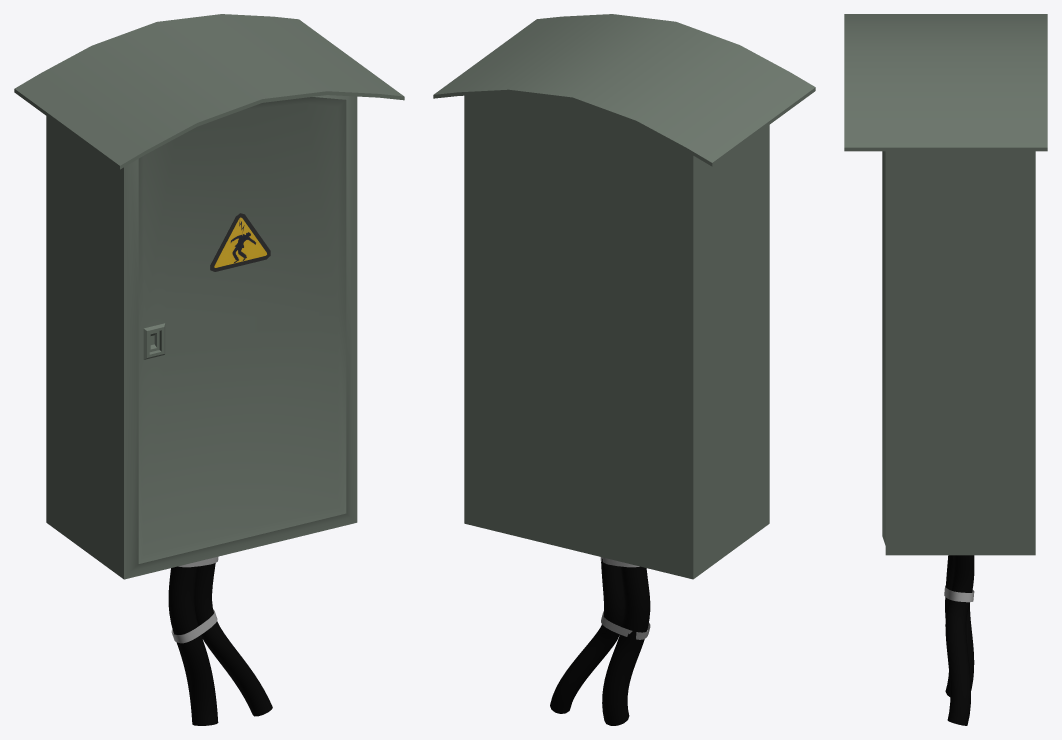
File: Electrico1.fbx
3 views of the same model, side by side, from view 1: azimuth 30°, elevation 25°; view 2: azimuth 150°, elevation 25°; view 3: azimuth 270°, elevation 25° (orthographic). The views are drawn at different scales.
Parts seen in each view (by area): view 1: BezierCurve.003; view 2: BezierCurve.003; view 3: BezierCurve.003.
Boxes of the visible parts, bbox=[...] form: BezierCurve.003: bbox=[14, 14, 404, 725]; BezierCurve.003: bbox=[433, 14, 815, 725]; BezierCurve.003: bbox=[844, 14, 1047, 725].
Bounding box in the file's own units: 38.32 × 86.66 × 24.62.
Materials: 5 (1 with a texture image).
